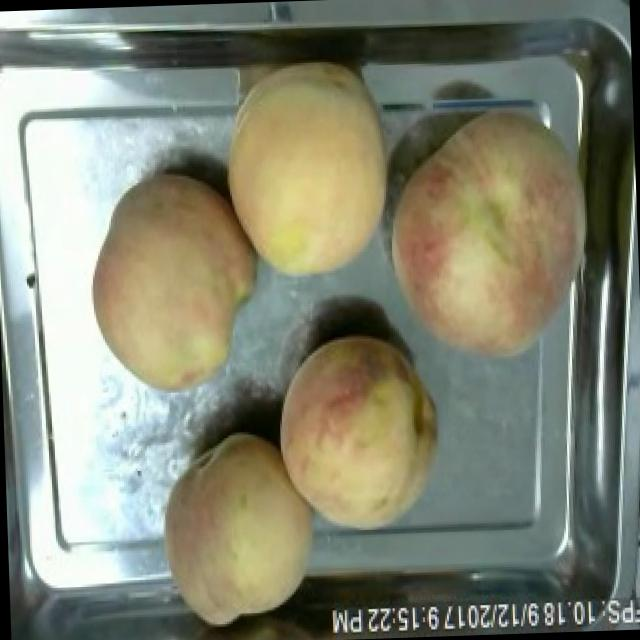Fruit: (370, 96, 610, 372), (210, 47, 407, 291), (78, 163, 270, 405), (268, 326, 450, 542), (150, 424, 329, 638)
